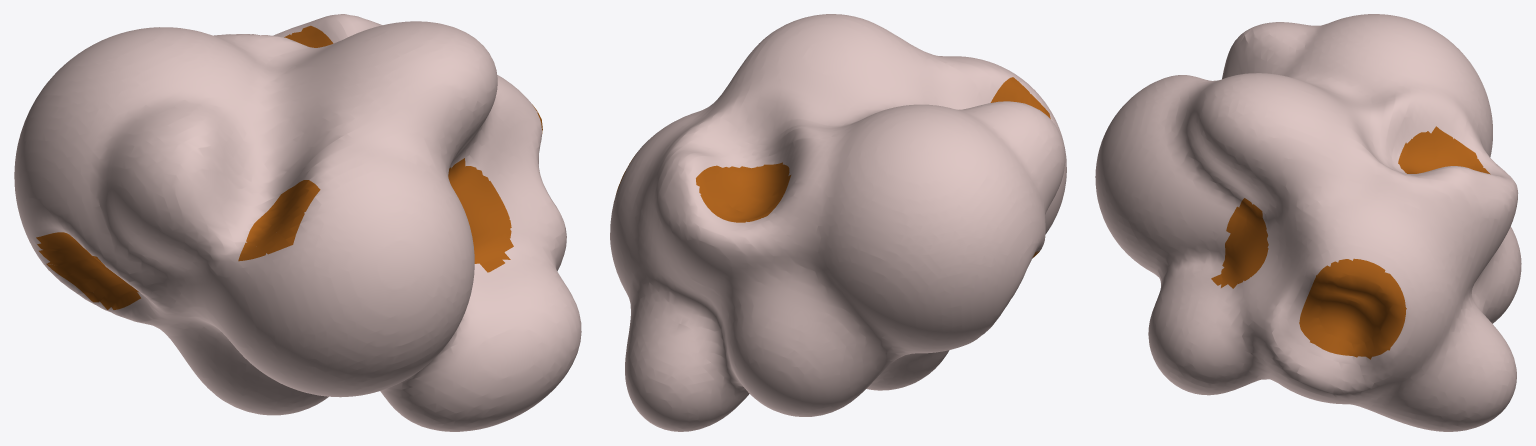
The model's file is pop004.fbx.
The picture shows the model from 3 angles, left to right: view 1: azimuth 30°, elevation 25°; view 2: azimuth 150°, elevation 25°; view 3: azimuth 270°, elevation 25°; orthographic projection. The views are drawn at different scales.
Visible parts, largest first — view 1: POPCORN_004; view 2: POPCORN_004; view 3: POPCORN_004.
Boxes of the visible parts, bbox=[...] form: POPCORN_004: bbox=[14, 14, 581, 431]; POPCORN_004: bbox=[610, 14, 1066, 431]; POPCORN_004: bbox=[1095, 14, 1521, 431].
Bounding box in the file's own units: 136 × 109 × 131.
